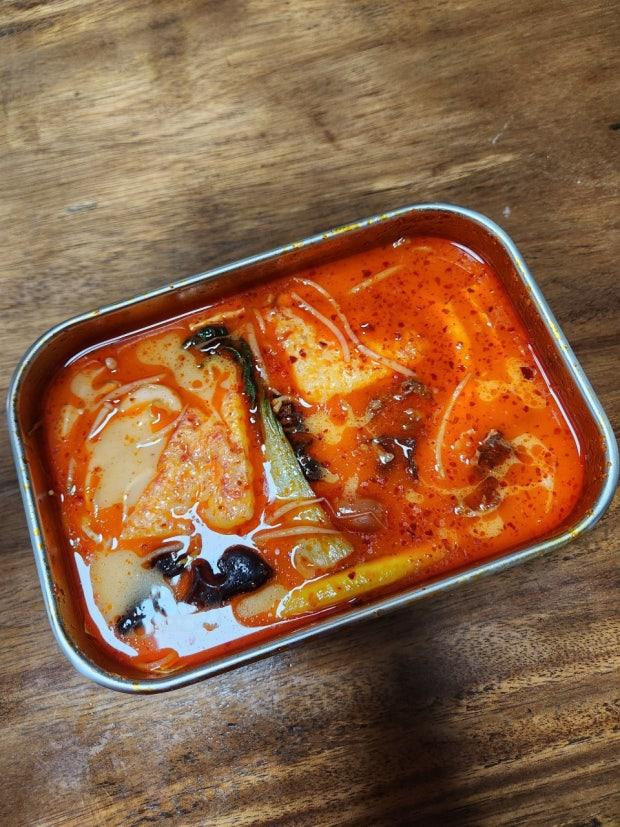Lunch Box: (8, 204, 617, 691)
